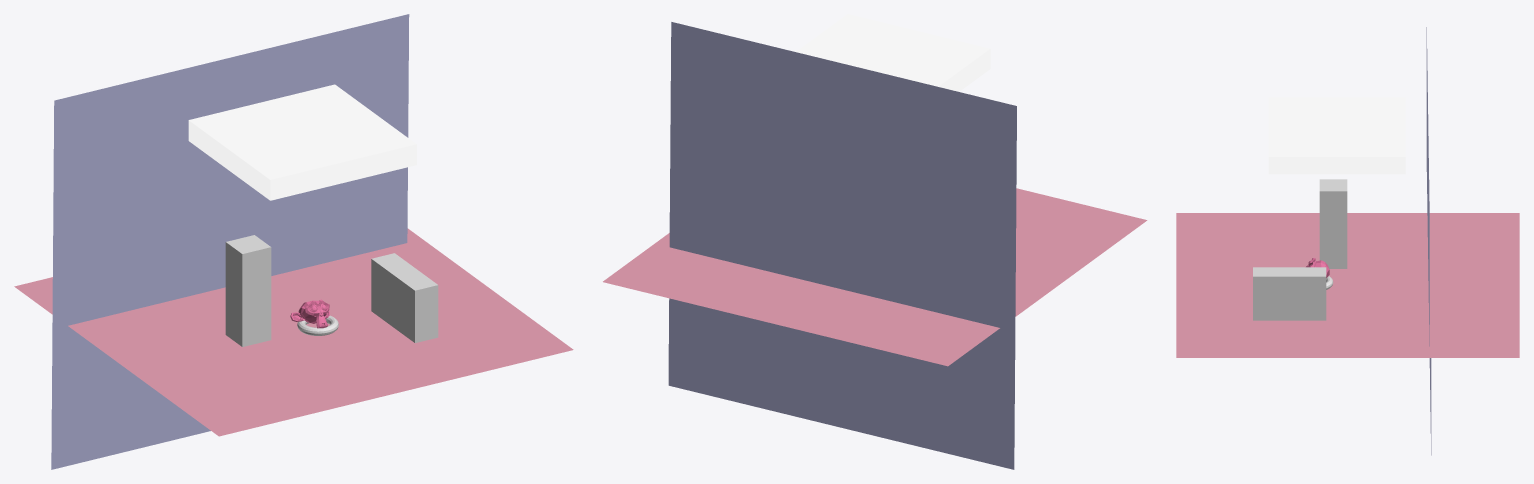
The model's file is pathtracer_test.glb.
3 renders of one model, left to right at view 1: azimuth 30°, elevation 25°; view 2: azimuth 150°, elevation 25°; view 3: azimuth 270°, elevation 25°, orthographic. The views are drawn at different scales.
Visible parts, largest first — view 1: Plane.002, Plane.001, Cube.002, Cube, Cube.001, Suzanne; view 2: Plane.002, Plane.001, Cube.002; view 3: Plane.001, Cube.002, Cube.001, Cube, Plane.002.
Part boxes in pixels (bbox=[...]): Plane.002: bbox=[51, 14, 409, 469]; Plane.001: bbox=[14, 228, 573, 436]; Cube.002: bbox=[188, 84, 416, 200]; Cube: bbox=[225, 235, 271, 346]; Cube.001: bbox=[371, 253, 438, 342]; Suzanne: bbox=[290, 299, 329, 328]; Plane.002: bbox=[668, 22, 1016, 469]; Plane.001: bbox=[603, 188, 1147, 366]; Cube.002: bbox=[796, 14, 990, 91]; Plane.001: bbox=[1176, 213, 1519, 357]; Cube.002: bbox=[1268, 97, 1405, 174]; Cube.001: bbox=[1253, 267, 1326, 320]; Cube: bbox=[1319, 179, 1347, 268]; Plane.002: bbox=[1426, 27, 1431, 455].
Size of the model in its own units: 25.67 by 24.6 by 24.61.
